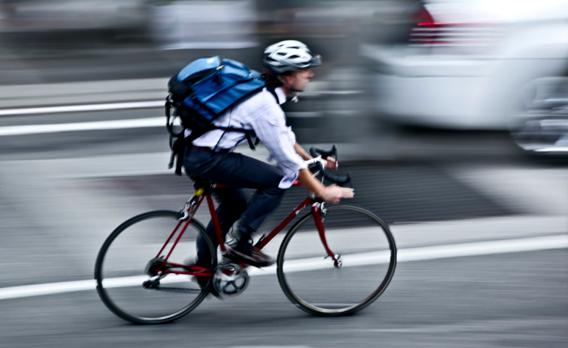commuter: (92, 37, 398, 320)
